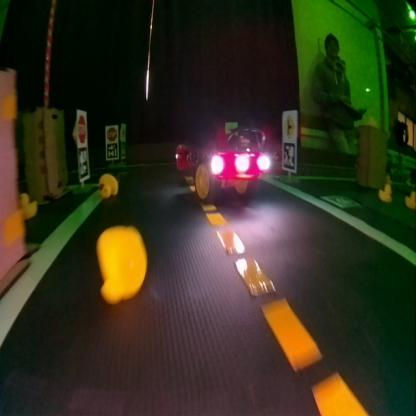duckie: (86, 216, 159, 314), (93, 163, 123, 206), (375, 178, 396, 207)
duckiebot: (165, 112, 279, 216)
